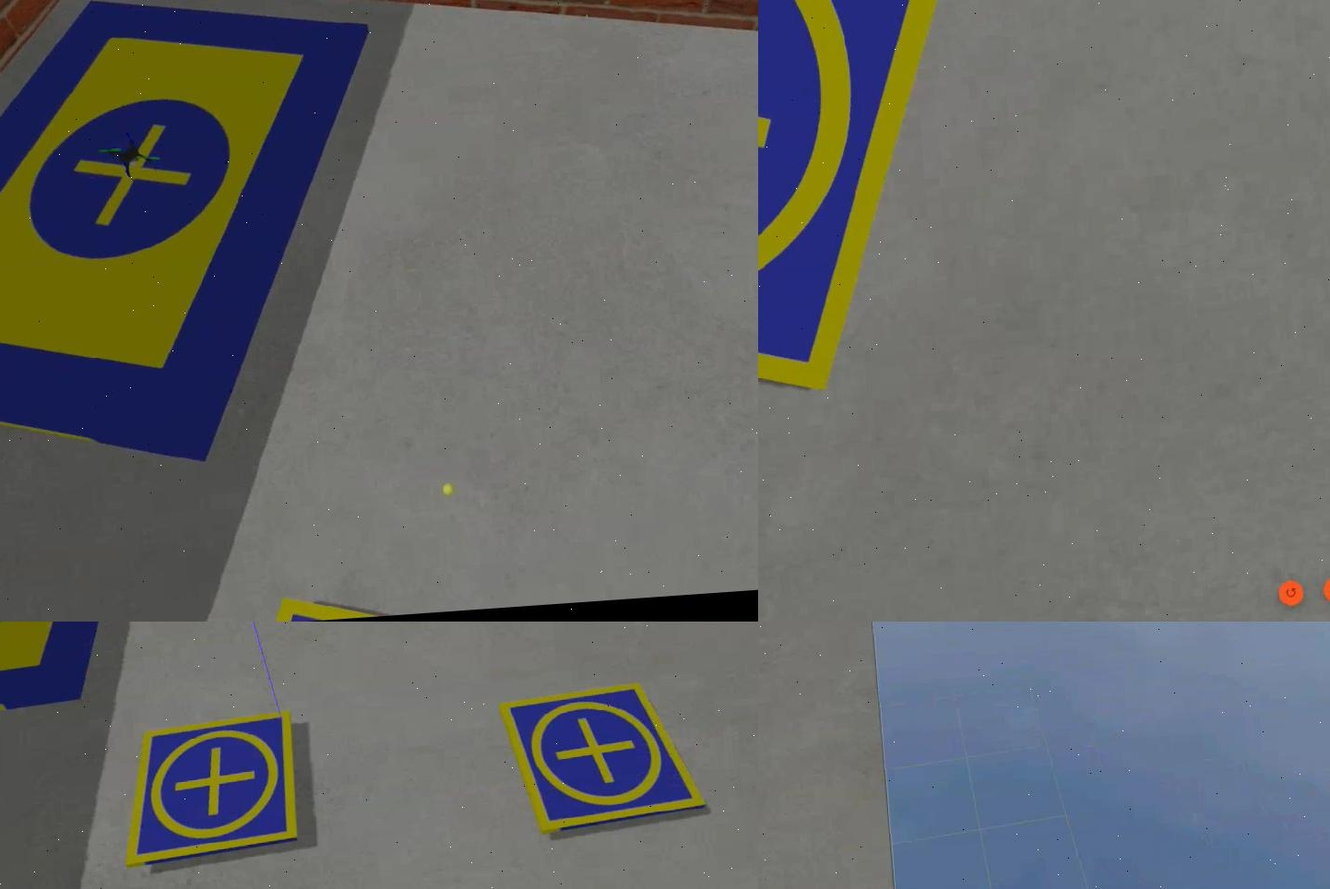large_base: (0, 1, 399, 488)
small_base: (756, 1, 1006, 430), (496, 683, 705, 836), (115, 716, 303, 871)
